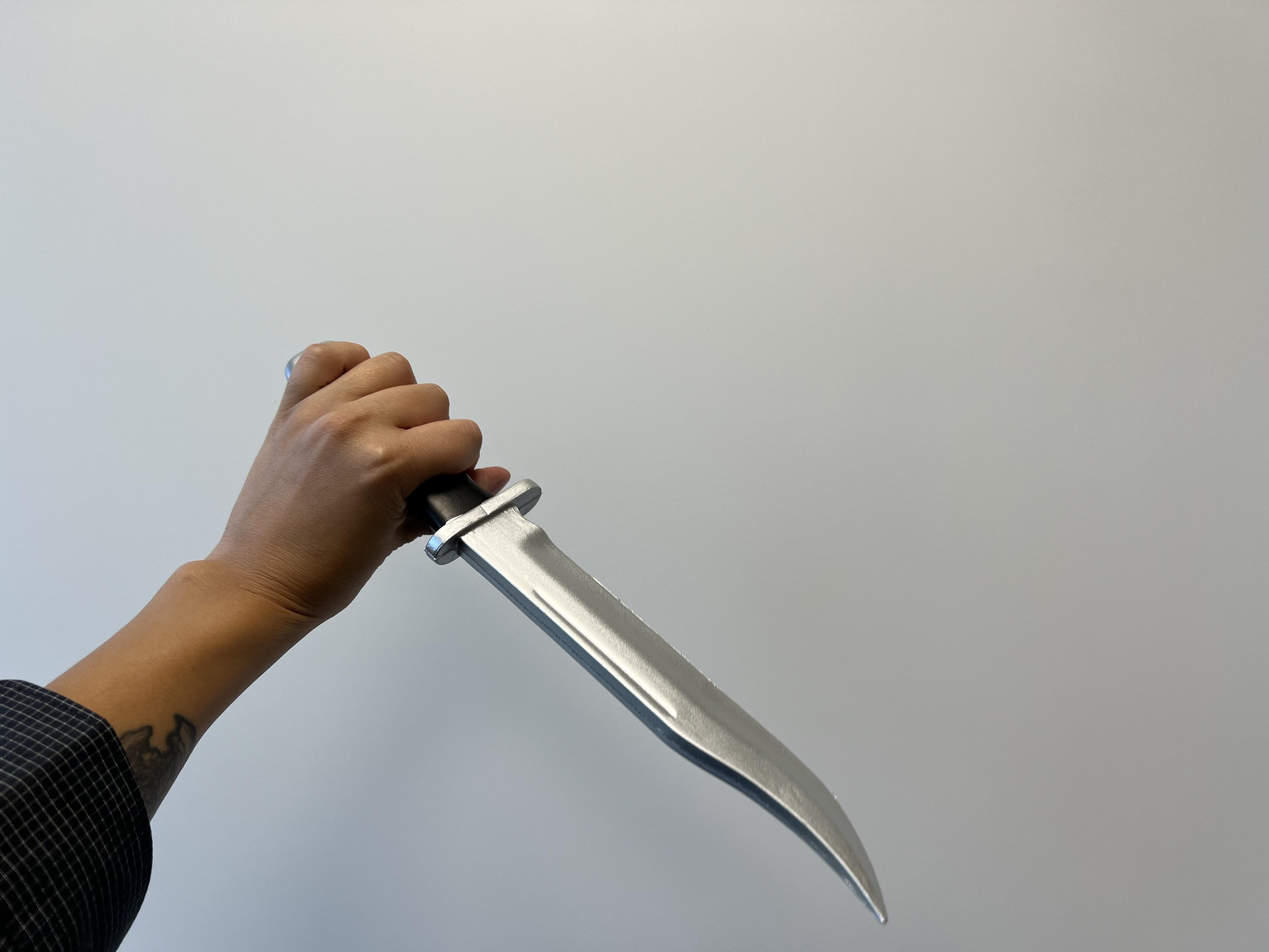Knife: (0, 343, 510, 952), (428, 476, 886, 929), (233, 343, 503, 610)
